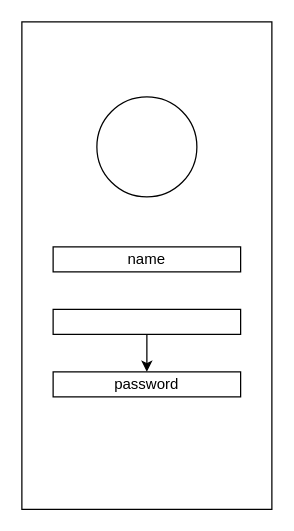
This 294x531 diagram has some shape labels left out. Each missing label, with the centre of its shape:
email: point (146, 321)
profile_image: point (146, 146)
